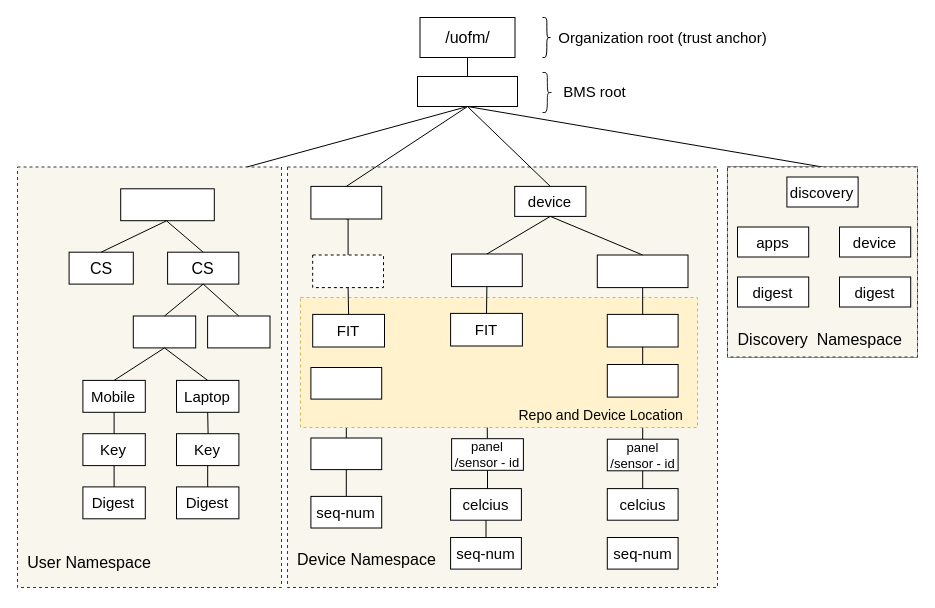
The diagram is 935 pixels wide and 608 high, and some of its shapes have lost their labels. Here are the shapes that lost their labels. From the top down, the centre of each, then its label:
[467,91]: bms
[167,204]: user
[346,202]: repo
[348,271]: (lux)
[486,270]: humidity
[642,271]: temperature
[164,331]: User A
[238,331]: User B
[642,330]: dunn-hall
[346,382]: 1 st floor/ room 2
[642,380]: 1 st floor
[346,453]: repo-id
